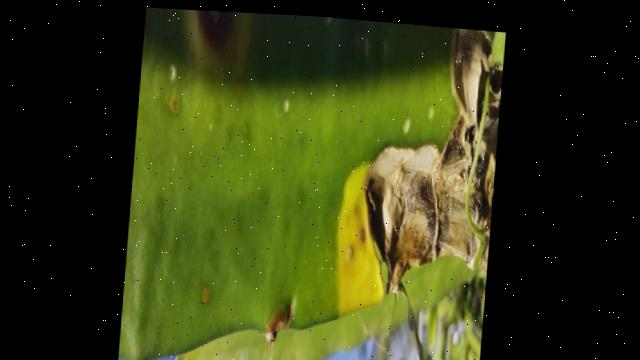stemcanker: (261, 300, 295, 344), (161, 83, 187, 118), (342, 237, 368, 268), (197, 281, 215, 308)
